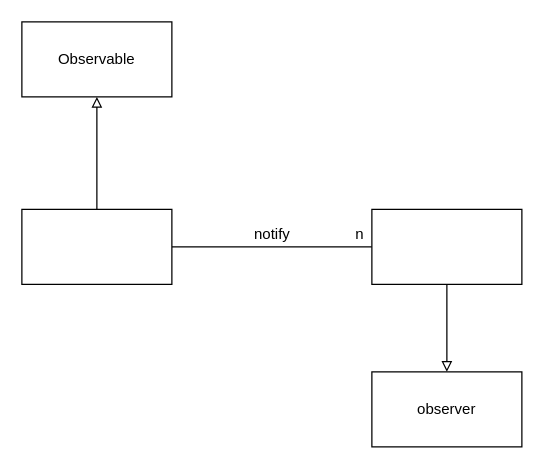
Some shapes in this 544 by 469 pixel diagram are drawn without their labels. Here are the shapes that lost their labels. From the top down, the box of each, then its label:
(21, 208, 172, 284): Timer
(371, 208, 522, 284): Toto
